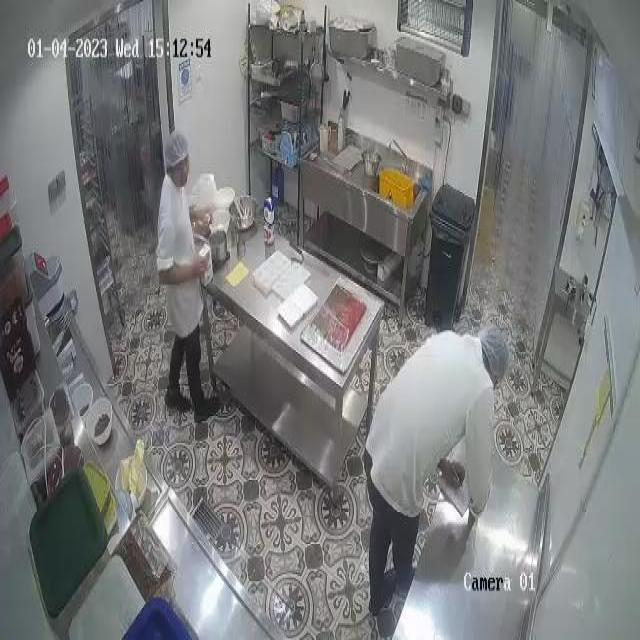hairnet: (482, 326, 508, 378), (162, 130, 188, 168)
